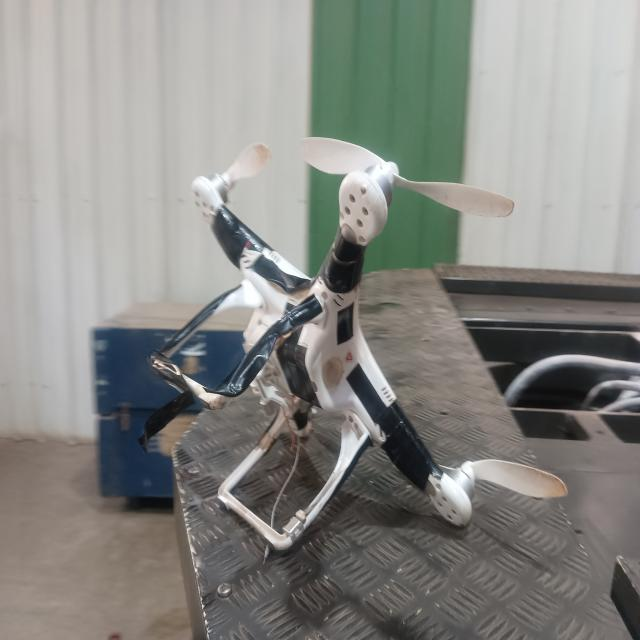drone: (165, 127, 576, 597)
